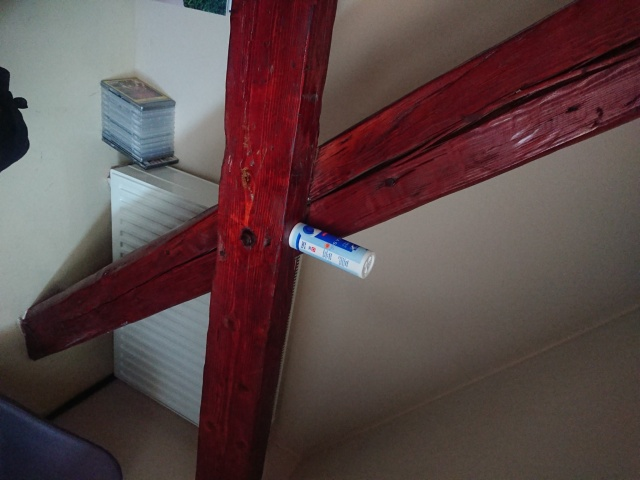Solana Pag Fine Sea Salt 250g: (285, 219, 379, 282)
